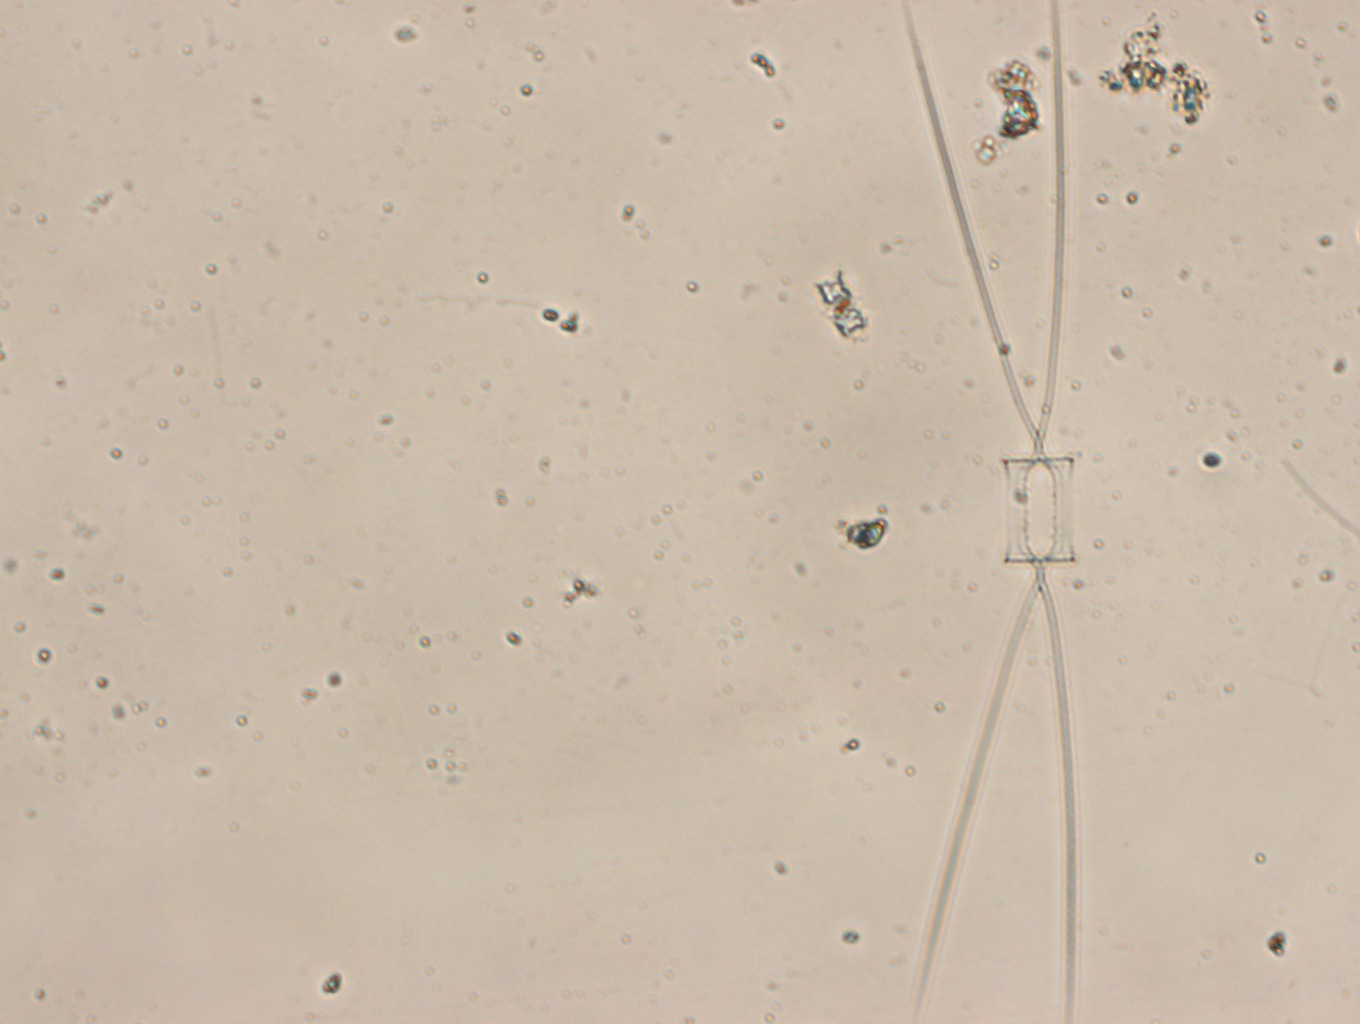chaetoceros: (900, 1, 1078, 1024)
